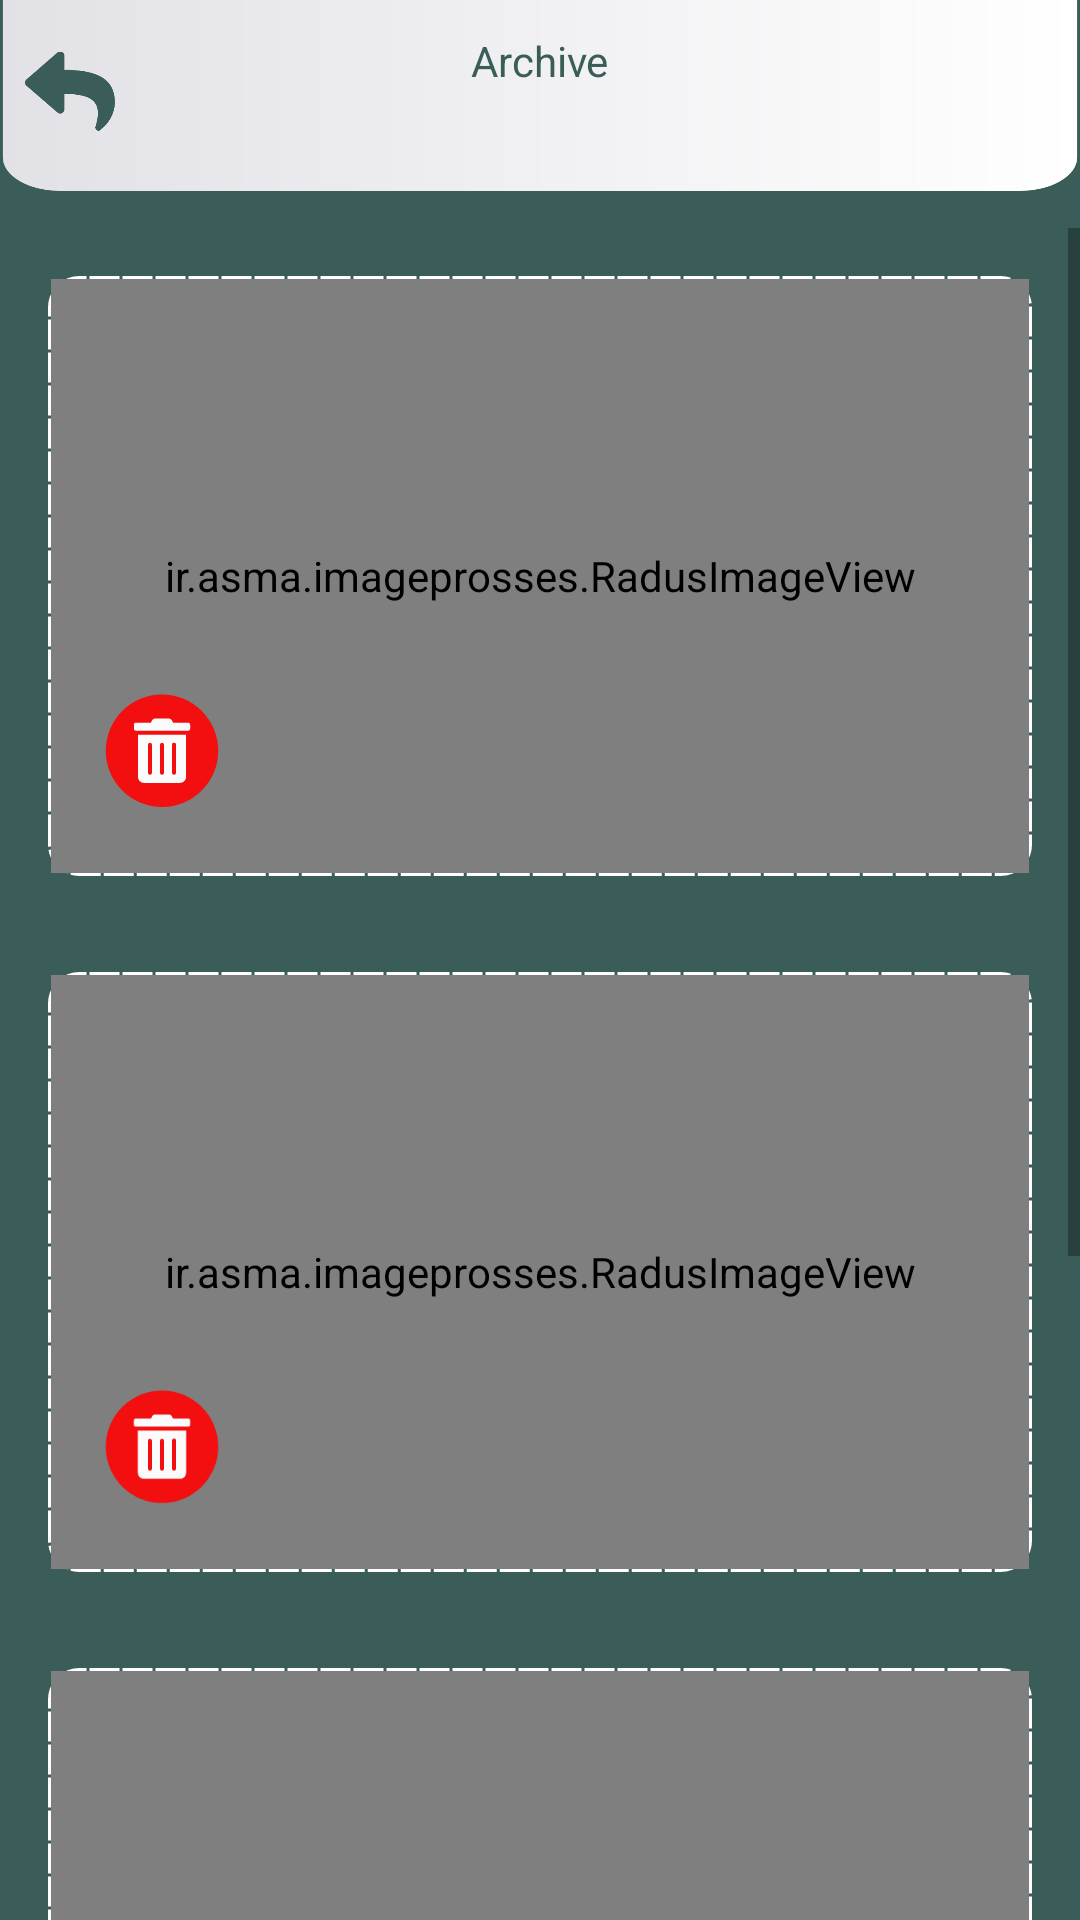

Named icons in this screenshot (1080w x 1920h) and their bounding boxes, (x1, y1, x2, y2):
back: (25, 52, 115, 131)
delete: (105, 694, 219, 807), (105, 1390, 219, 1503)
